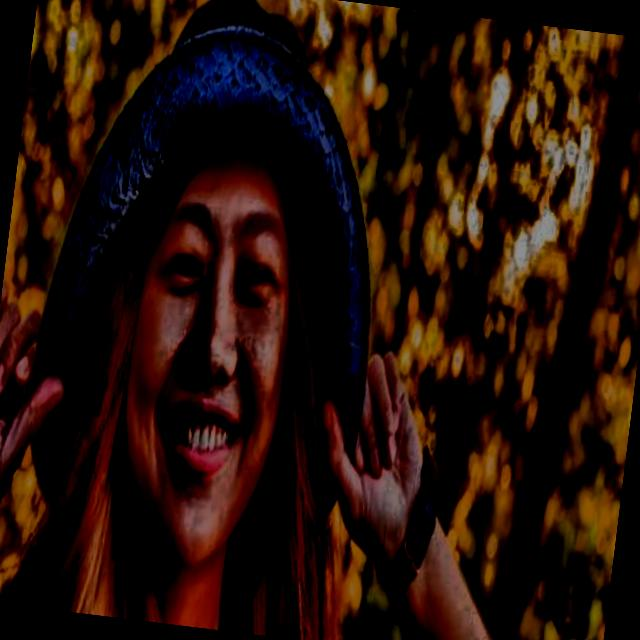happy: (87, 72, 342, 573)
